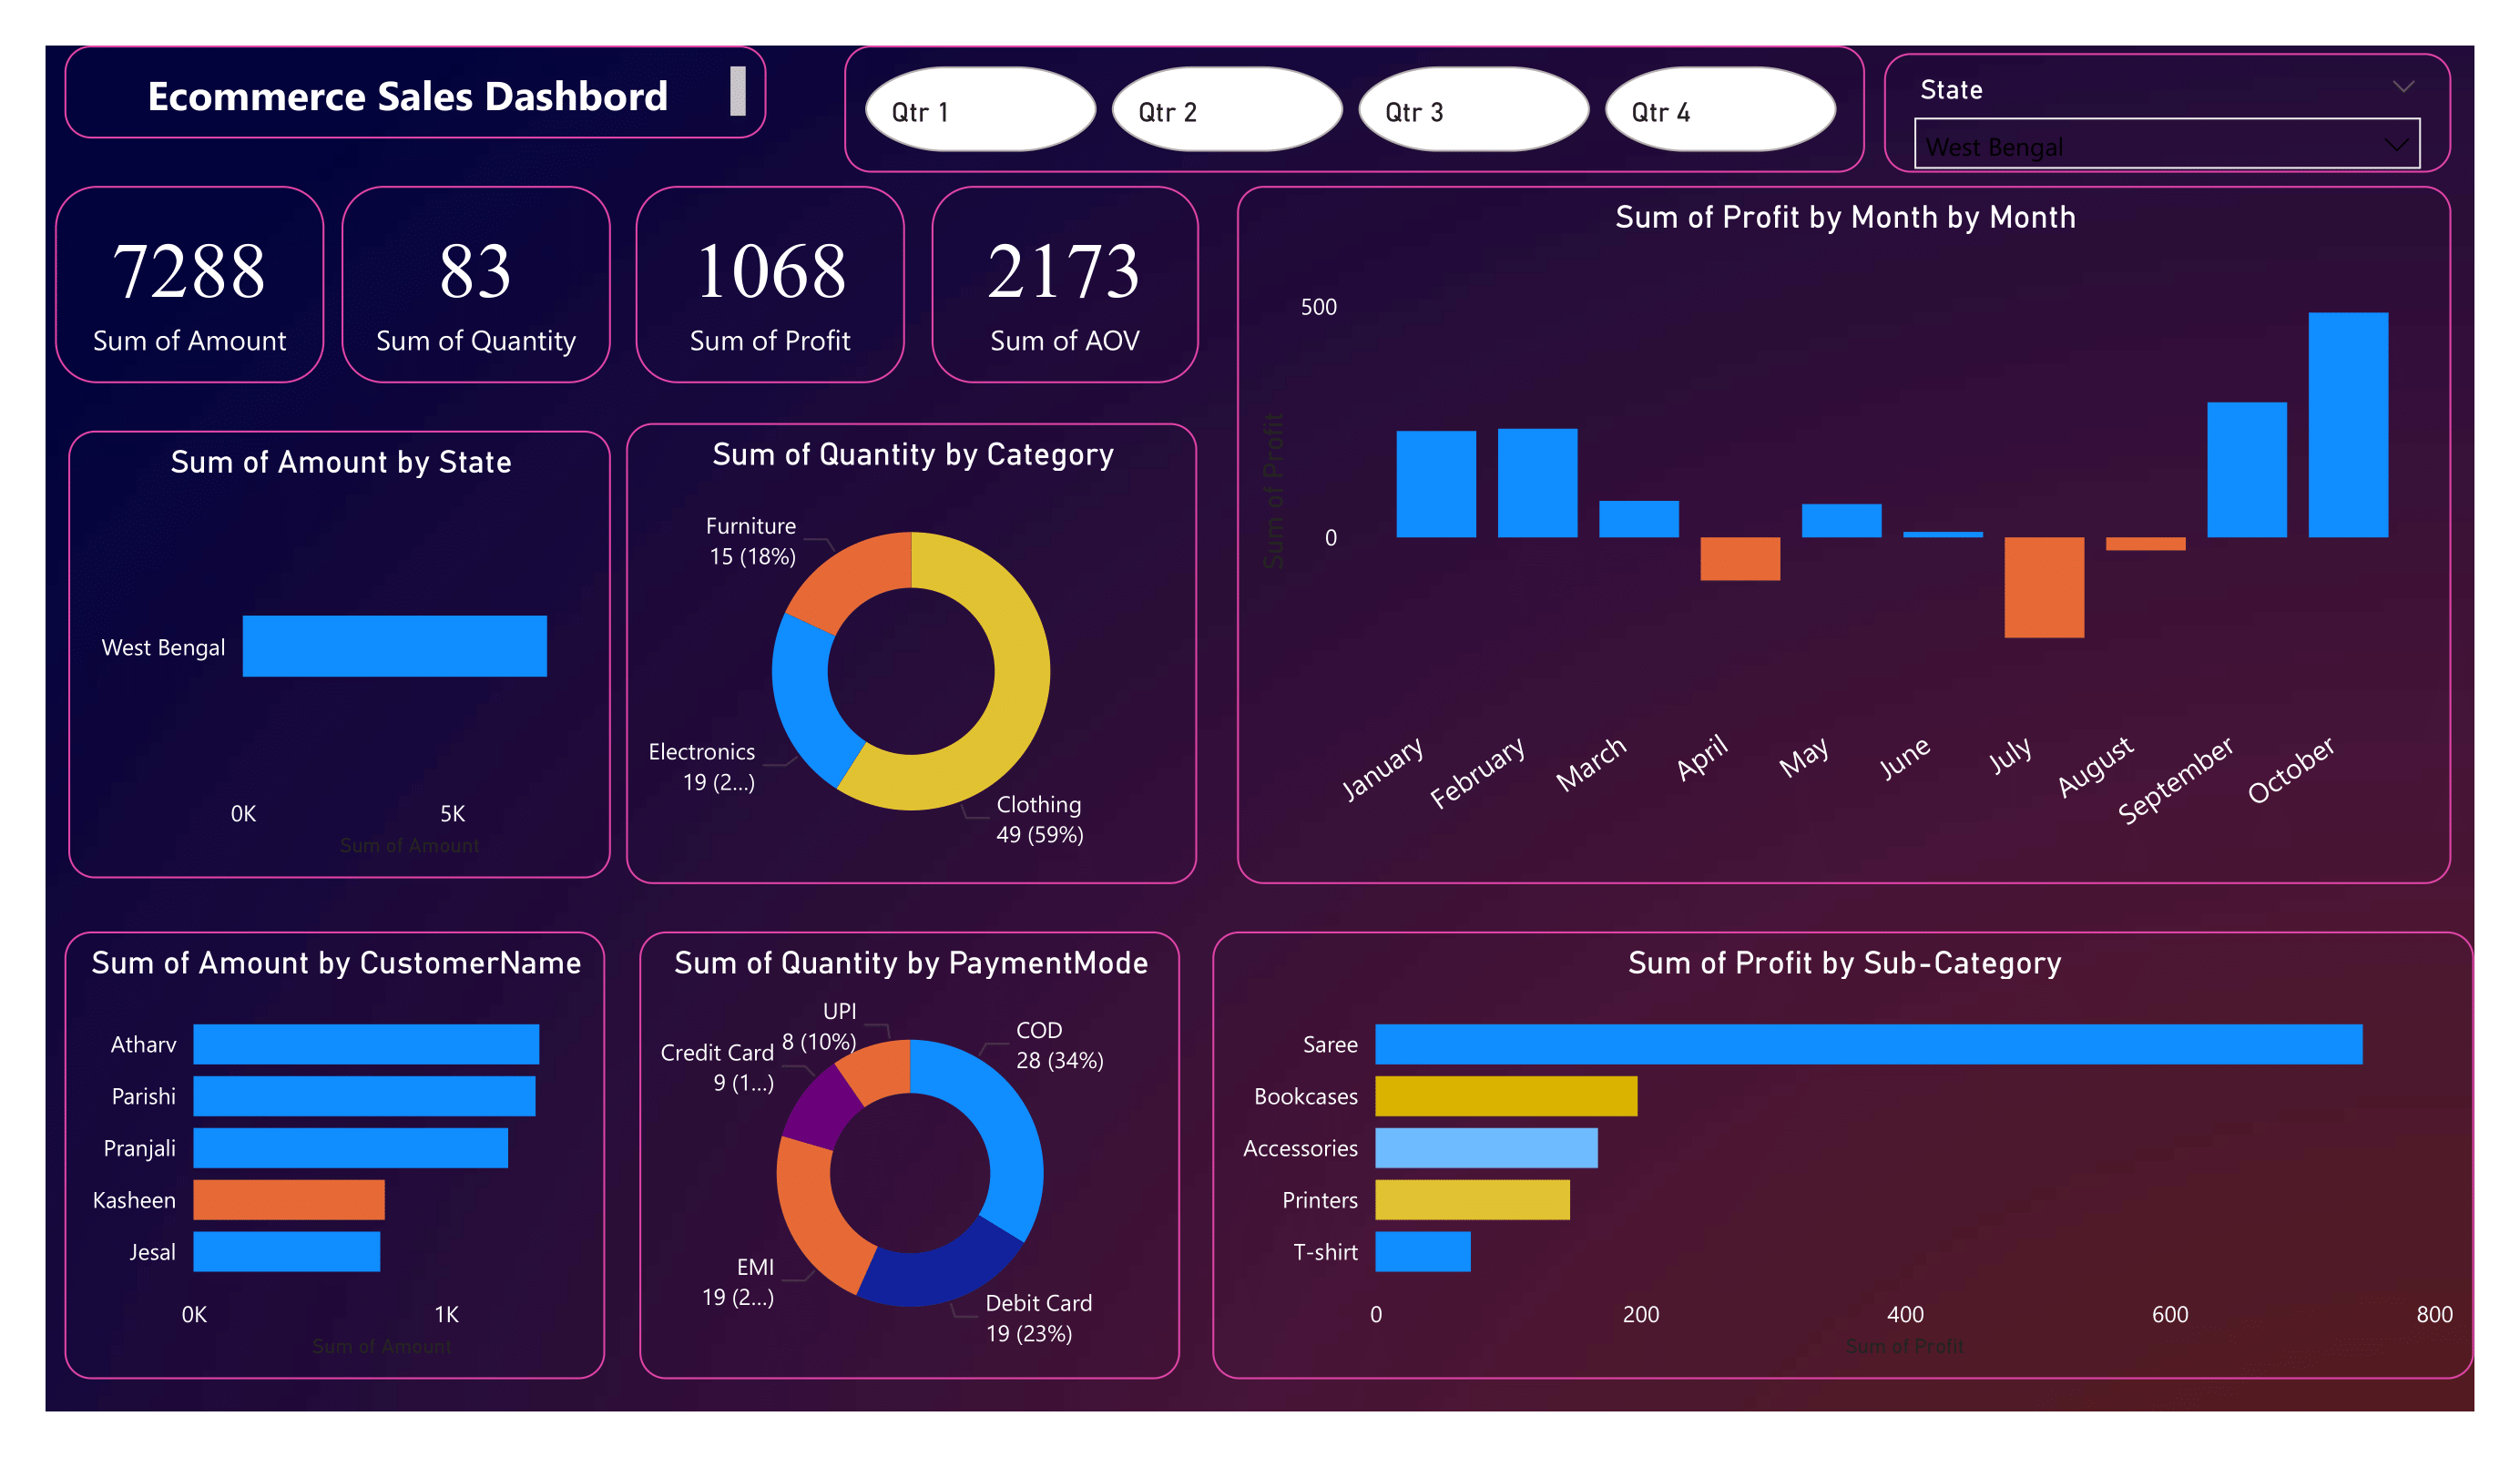

The page's visual inventory and layout, read from the dashboard file:
{"tool":"powerbi","page":{"name":"Page 1","canvas":[1280,720],"ordinal":0},"visuals":[{"type":"textbox","box":[9.6,0,370.5,49.4],"z":0},{"type":"columnChart","title":"Sum of Profit by Month by Month","fields":{"Category":["Orders.Order Date.Variation.Date Hierarchy.Month"],"Y":["Details.Profit"]},"box":[628.5,74.1,639.5,367.8],"z":1000},{"type":"barChart","fields":{"Category":["Details.Sub-Category"],"Y":["Details.Profit"]},"box":[614.8,466.6,665.5,236],"z":2000},{"type":"donutChart","fields":{"Category":["Details.Category"],"Y":["Details.Quantity"]},"box":[306,199,300.5,242.9],"z":3000},{"type":"donutChart","fields":{"Category":["Details.PaymentMode"],"Y":["Details.Quantity"]},"box":[312.9,466.6,285.4,236],"z":4000},{"type":"card","fields":{"Values":["Details.Amount"]},"box":[5.5,74.1,141.3,104.3],"z":5000},{"type":"card","fields":{"Values":["Details.Quantity"]},"box":[156.4,74.1,141.3,104.3],"z":6000},{"type":"card","fields":{"Values":["Details.Profit"]},"box":[311.5,74.1,141.3,104.3],"z":7000},{"type":"card","fields":{"Values":["Details.AOV"]},"box":[466.6,74.1,141.3,104.3],"z":8000},{"type":"barChart","fields":{"Category":["Orders.State"],"Y":["Details.Amount"]},"box":[12.3,203.1,285.4,236],"z":9000},{"type":"barChart","fields":{"Y":["Details.Amount"],"Category":["Orders.CustomerName"]},"box":[9.6,466.6,285.4,236],"z":10000},{"type":"advancedSlicerVisual","fields":{"Values":["Orders.Order Date.Variation.Date Hierarchy.Quarter"]},"box":[421.3,0,537.9,67.2],"z":11000},{"type":"slicer","fields":{"Values":["Orders.State"]},"box":[968.8,4.1,299.1,63.1],"z":12000}]}

Visuals, with their boxes on the page's 1280x720 design canvas (x1, y1, x2, y2). These are canvas units, not pixel positions in the 2520x1457 screenshot, which may show the page scaled, cropped or inside an application window:
textbox: <box>10,0,380,49</box>
"Sum of Profit by Month by Month" columnChart: <box>628,74,1268,442</box>
barChart - Details.Sub-Category x Details.Profit: <box>615,467,1280,703</box>
donutChart - Details.Category x Details.Quantity: <box>306,199,606,442</box>
donutChart - Details.PaymentMode x Details.Quantity: <box>313,467,598,703</box>
card - Details.Amount: <box>6,74,147,178</box>
card - Details.Quantity: <box>156,74,298,178</box>
card - Details.Profit: <box>312,74,453,178</box>
card - Details.AOV: <box>467,74,608,178</box>
barChart - Orders.State x Details.Amount: <box>12,203,298,439</box>
barChart - Details.Amount x Orders.CustomerName: <box>10,467,295,703</box>
advancedSlicerVisual - Orders.Order Date.Variation.Date Hierarchy.Quarter: <box>421,0,959,67</box>
slicer - Orders.State: <box>969,4,1268,67</box>
